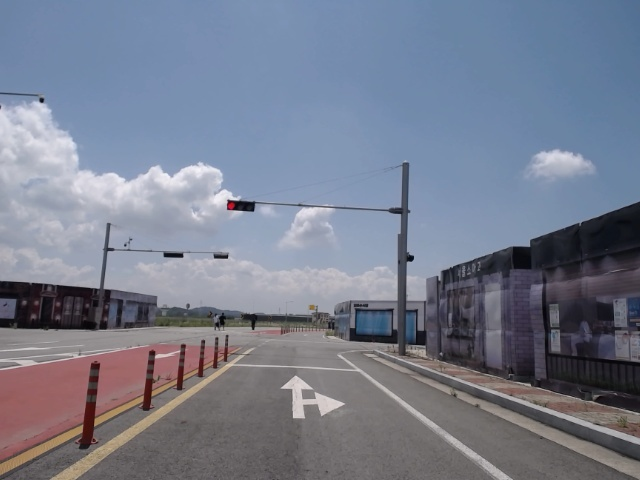red_3: (227, 199, 255, 214)
